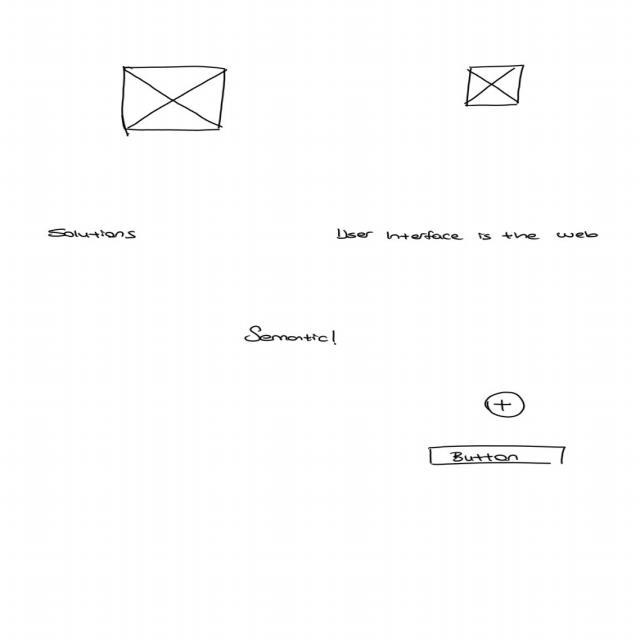button: (426, 444, 568, 466)
icon-button: (484, 390, 526, 420)
image: (118, 64, 228, 134), (463, 63, 527, 107)
label: (334, 226, 600, 242), (242, 323, 340, 347), (45, 225, 137, 241)
